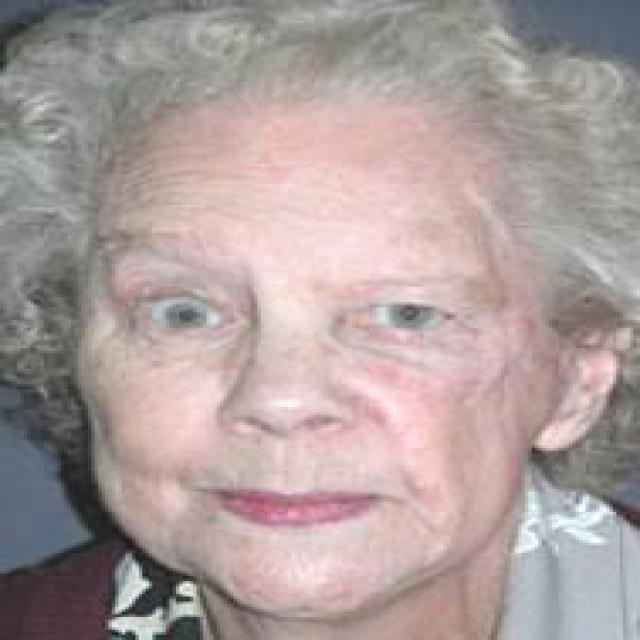stroke_face: (44, 78, 595, 619)
